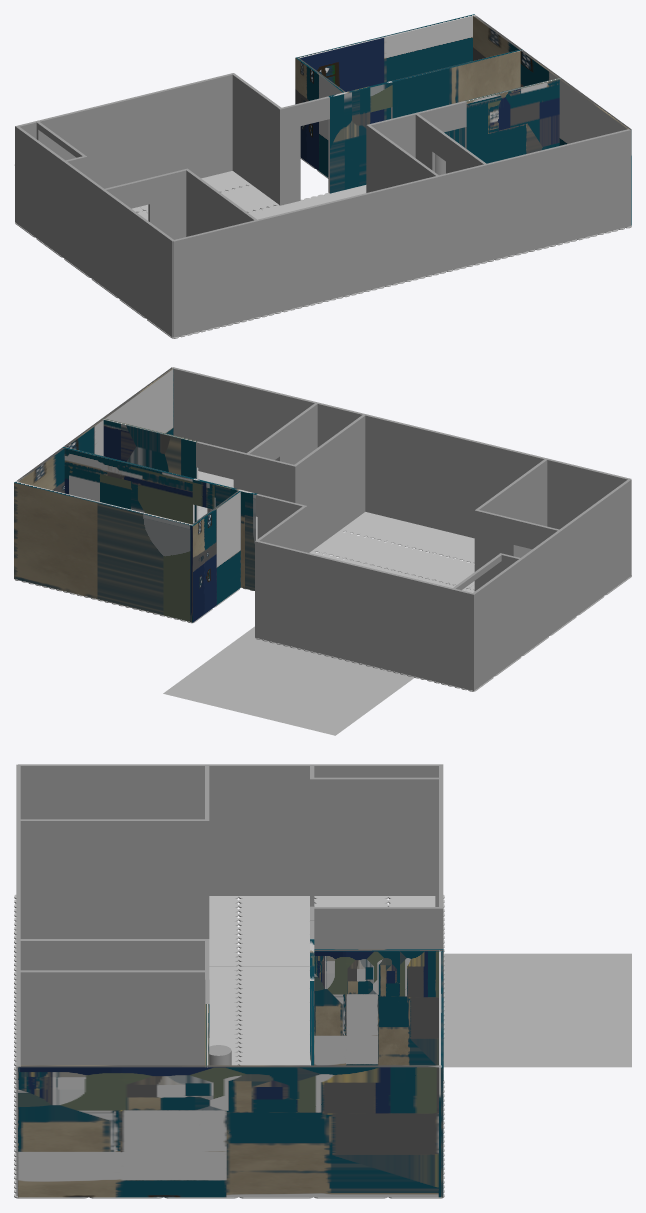
File: PlaceholderHouse.fbx
3 views of the same model, one above another, from view 1: azimuth 30°, elevation 25°; view 2: azimuth 150°, elevation 25°; view 3: azimuth 270°, elevation 25° (orthographic). The views are drawn at different scales.
Visible parts, largest first — view 1: pasted__pasted__pasted__pasted__pCube3 (×4), pasted__pasted__pasted__pCube3 (×2), pasted__pCube3, pasted__pCube1, pasted__pCube2, polySurface1, pasted__pasted__pCube2, pasted__pasted__pasted__pCube2, pasted__pasted__pasted__pasted__pasted__pasted__pasted__pCub; view 2: pasted__pasted__pasted__pasted__pCube3 (×4), pasted__pasted__pasted__pCube3, pasted__pCube1, pasted__pCube3, pasted__pasted__floor, polySurface1, pasted__pCube2, pasted__pasted__pasted__pCube2, pasted__pasted__pCube2, pasted__pasted__pasted__pasted__pasted__pasted__pasted__pCub; view 3: pasted__pCube3, pasted__pCube1, polySurface1, pasted__pasted__pasted__pCube2 (×2), pasted__pasted__floor, pasted__pCube2, pasted__pasted__pCube2, pasted__pasted__pasted__pasted__pCube3 (×3), pasted__pasted__pasted__pCube3 (×2).
Boxes of the visible parts, bbox=[...] form: pasted__pasted__pasted__pasted__pCube3 (×4): bbox=[148, 14, 630, 337]; pasted__pasted__pasted__pCube3 (×2): bbox=[15, 73, 300, 222]; pasted__pCube3: bbox=[391, 14, 631, 225]; pasted__pCube1: bbox=[15, 126, 174, 337]; pasted__pCube2: bbox=[295, 57, 392, 193]; polySurface1: bbox=[366, 101, 487, 192]; pasted__pasted__pCube2: bbox=[232, 74, 281, 203]; pasted__pasted__pasted__pCube2: bbox=[186, 169, 258, 236]; pasted__pasted__pasted__pasted__pasted__pasted__pasted__pCub: bbox=[126, 178, 150, 208]; pasted__pasted__pasted__pasted__pCube3 (×4): bbox=[14, 367, 630, 621]; pasted__pasted__pasted__pCube3: bbox=[255, 540, 474, 690]; pasted__pCube1: bbox=[472, 479, 631, 690]; pasted__pCube3: bbox=[16, 367, 198, 524]; pasted__pasted__floor: bbox=[163, 626, 414, 735]; polySurface1: bbox=[196, 402, 365, 552]; pasted__pCube2: bbox=[190, 478, 257, 622]; pasted__pasted__pasted__pCube2: bbox=[476, 458, 547, 557]; pasted__pasted__pCube2: bbox=[257, 506, 305, 551]; pasted__pasted__pasted__pasted__pasted__pasted__pasted__pCub: bbox=[513, 519, 536, 549]; pasted__pCube3: bbox=[18, 981, 441, 1197]; pasted__pCube1: bbox=[18, 764, 441, 895]; polySurface1: bbox=[20, 939, 209, 1065]; pasted__pasted__pasted__pCube2 (×2): bbox=[16, 777, 438, 938]; pasted__pasted__floor: bbox=[443, 953, 631, 1067]; pasted__pCube2: bbox=[310, 939, 443, 1080]; pasted__pasted__pCube2: bbox=[314, 907, 443, 949]; pasted__pasted__pasted__pasted__pCube3 (×3): bbox=[16, 764, 443, 1197]; pasted__pasted__pasted__pCube3 (×2): bbox=[310, 764, 443, 908].
Size of the model in its own units: 55.52 by 12.28 by 47.76.
